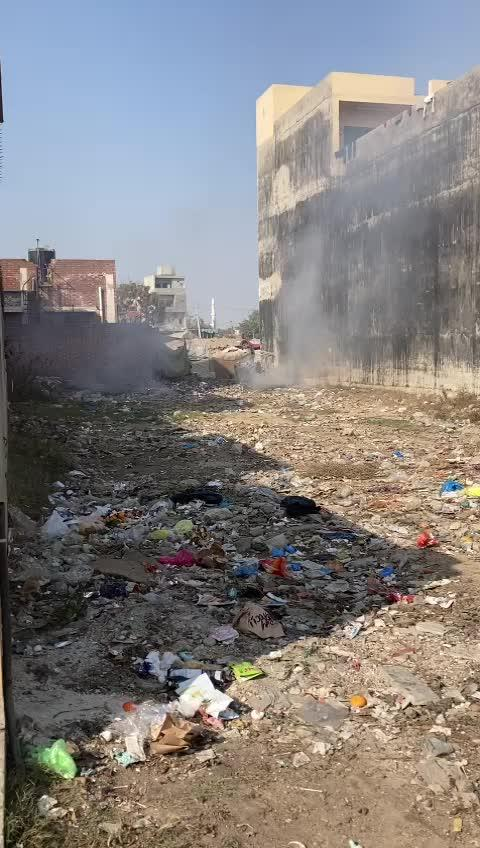garbage: (41, 386, 480, 769)
